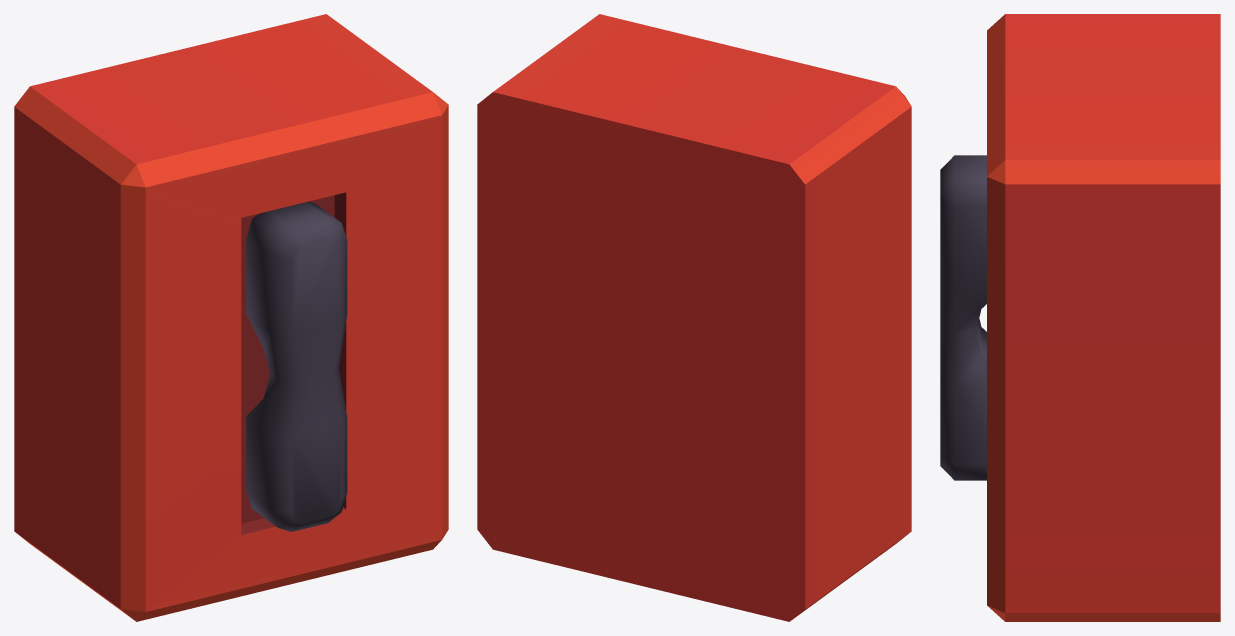
Rendered from phonebox break.fbx.
3 views of the same model, side by side, from view 1: azimuth 30°, elevation 25°; view 2: azimuth 150°, elevation 25°; view 3: azimuth 270°, elevation 25° (orthographic).
Parts seen in each view (by area): view 1: polySurface139, polySurface136, polySurface138, polySurface133, polySurface140; view 2: polySurface138, polySurface139, polySurface136, polySurface140; view 3: polySurface138, polySurface140, polySurface133, polySurface136.
Part boxes in pixels (<box>): polySurface139: <box>14,315,337,621</box>; polySurface136: <box>14,70,254,353</box>; polySurface138: <box>96,14,448,310</box>; polySurface133: <box>246,201,347,531</box>; polySurface140: <box>328,285,448,574</box>; polySurface138: <box>477,14,804,364</box>; polySurface139: <box>619,275,911,621</box>; polySurface136: <box>671,64,911,392</box>; polySurface140: <box>477,324,670,580</box>; polySurface138: <box>987,46,1220,406</box>; polySurface140: <box>987,355,1220,621</box>; polySurface133: <box>940,155,986,480</box>; polySurface136: <box>987,14,1220,77</box>.
Bounding box in the file's own units: 43.26 × 57.68 × 31.7.
1 material, 1 textured.
